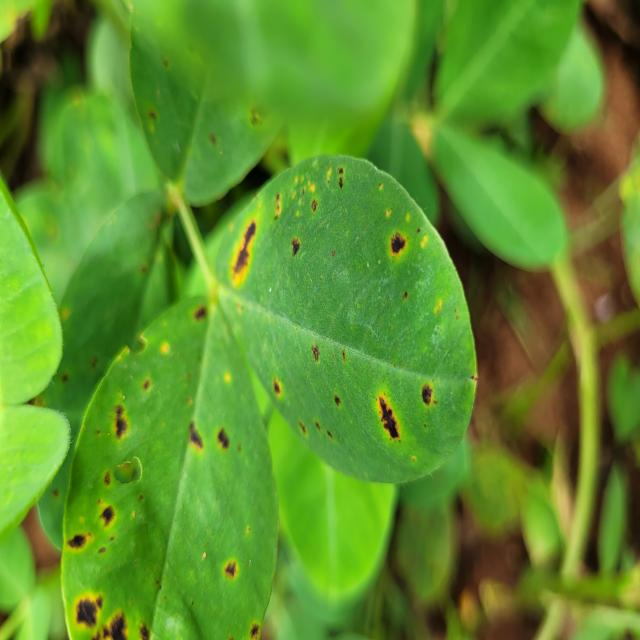Ground nut_healthy: (430, 119, 566, 276)
Ground nut_tikka leaf spot: (212, 144, 478, 489), (63, 295, 280, 640)
